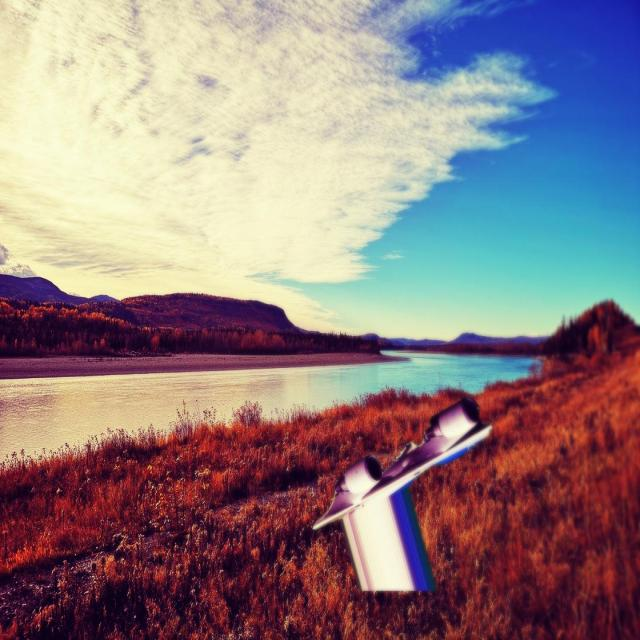airplane: (311, 395, 493, 593)
